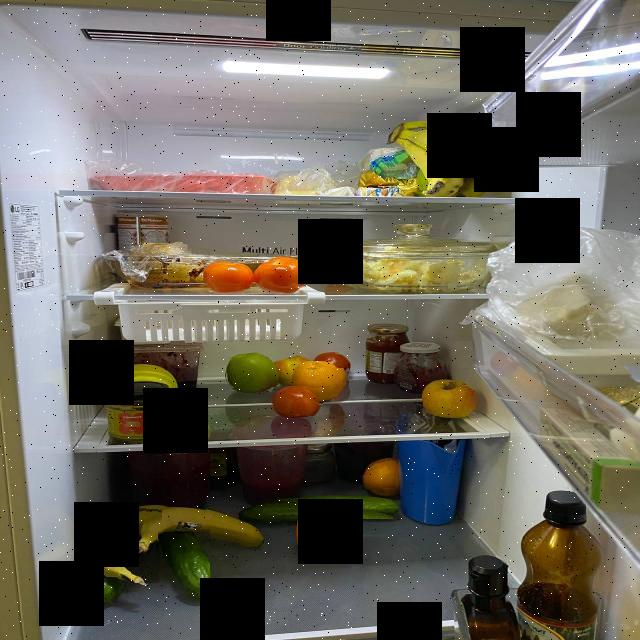Apple: (224, 352, 284, 388), (423, 381, 481, 416), (266, 355, 300, 382), (413, 170, 424, 191)
Banana: (386, 121, 506, 194), (78, 503, 162, 583), (138, 499, 270, 546)
Cucumber: (158, 529, 210, 597), (246, 497, 394, 519), (86, 576, 118, 603)
Orange: (298, 507, 358, 554), (294, 361, 349, 398), (362, 458, 398, 490), (324, 245, 337, 274)
Tomato: (250, 260, 306, 288), (269, 387, 323, 416), (204, 263, 251, 289), (312, 352, 350, 368)
